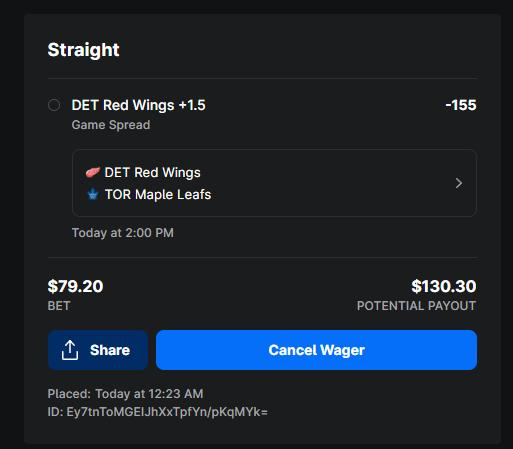game: (104, 164, 215, 206)
odds: (440, 96, 482, 116)
payout: (411, 276, 479, 296)
wager: (48, 275, 105, 298)
